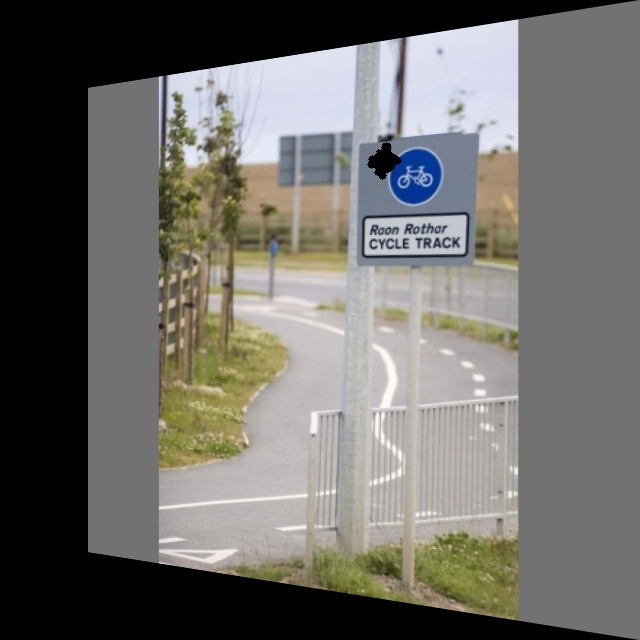Compulsory_Cycle_Track: (382, 140, 448, 213)
